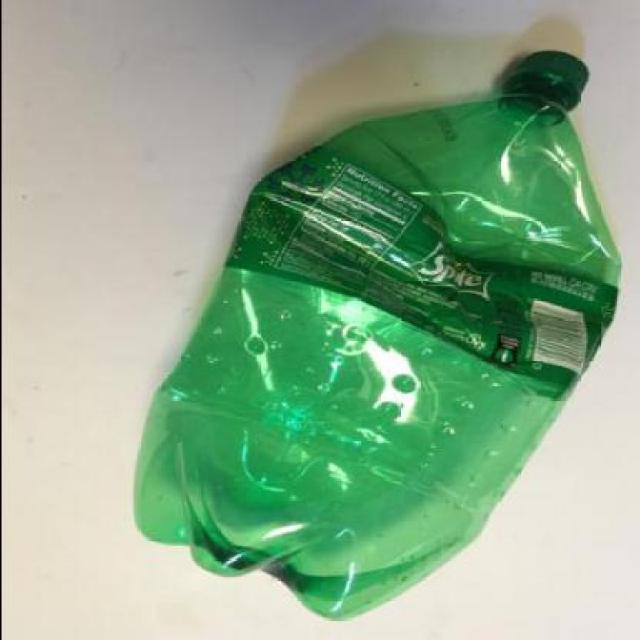PLASTIC: (130, 52, 612, 620), (218, 150, 612, 398), (503, 52, 586, 117)
